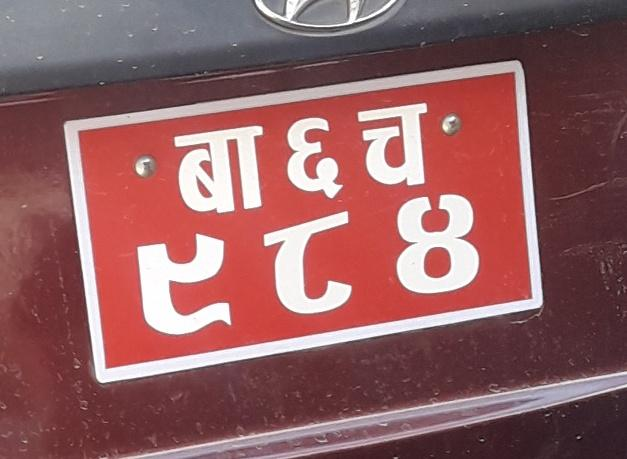4: (388, 190, 484, 301)
6: (281, 114, 348, 204)
8: (256, 208, 359, 319)
9: (126, 228, 239, 339)
ba: (168, 121, 270, 220)
cha: (352, 99, 434, 191)
